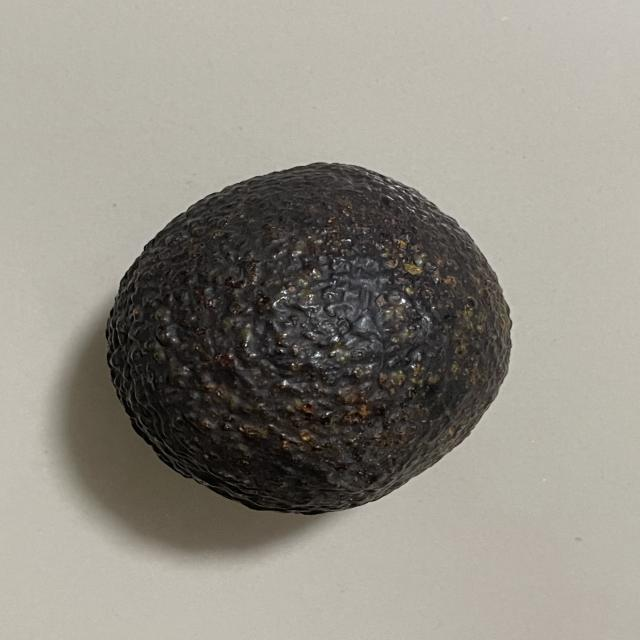avocado: (89, 146, 532, 531)
